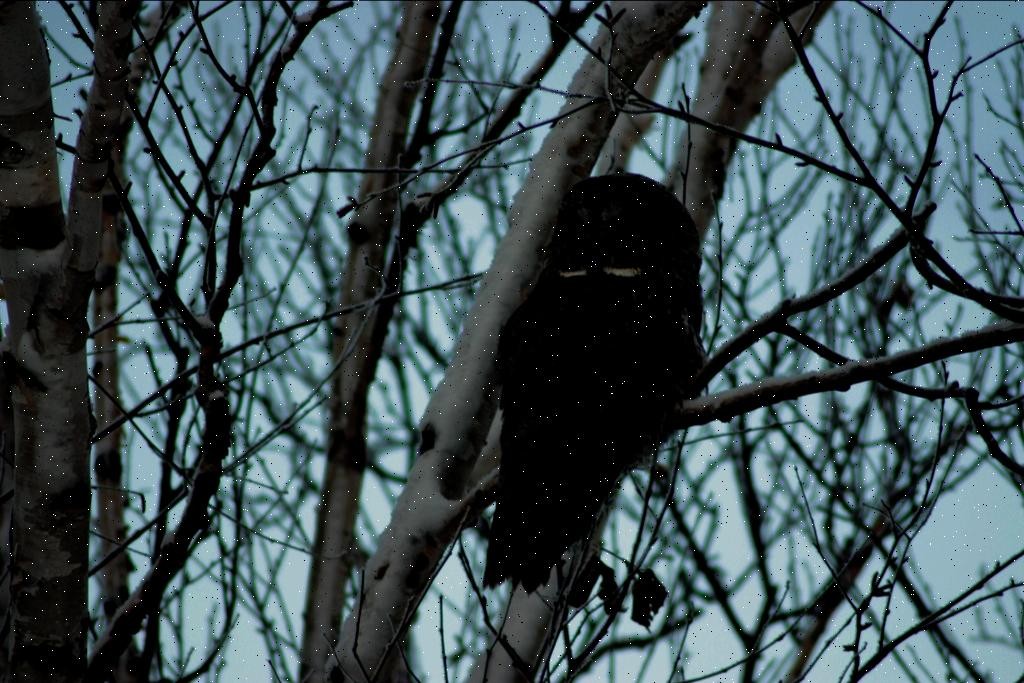Owl: (480, 173, 702, 595)
